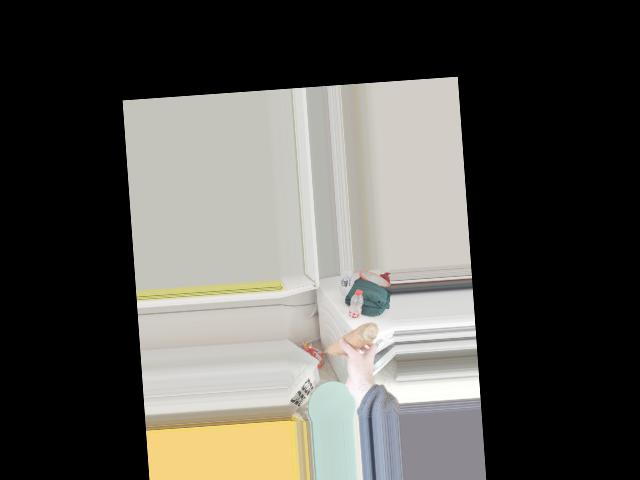sweet_potato: (326, 320, 377, 360)
